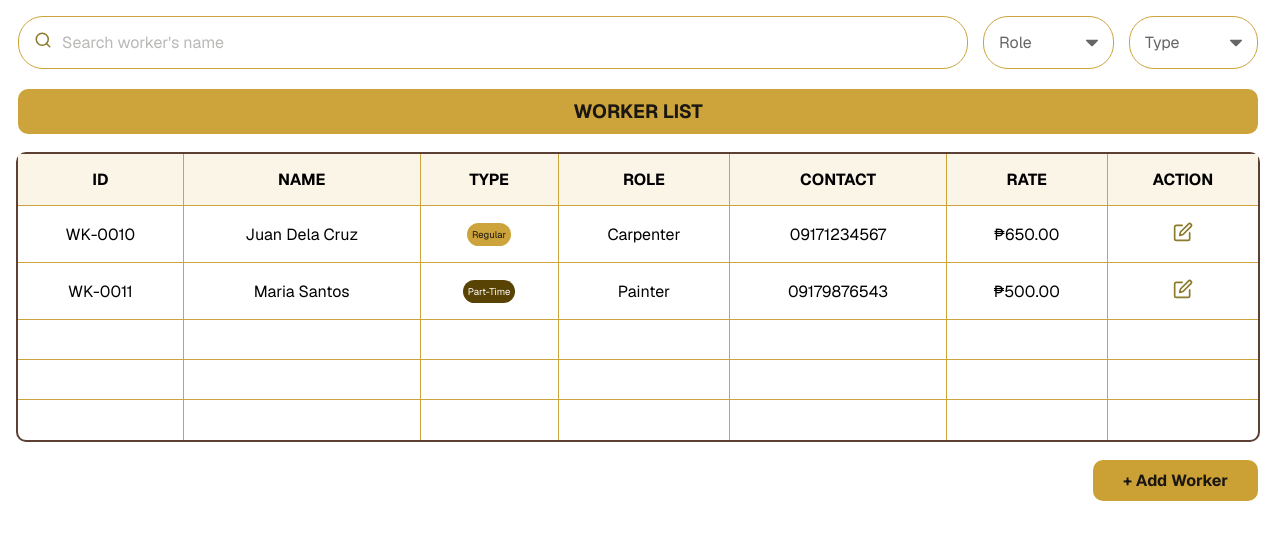
Test: WorkerList › shows the empty state when a filter matches nobody
Expected: the text "Juan Dela Cruz" is shown, [183,206,420,262]
Type "nobody" into the field with placeholder "Search worker's name" at (502,42), box [52,22,952,63]
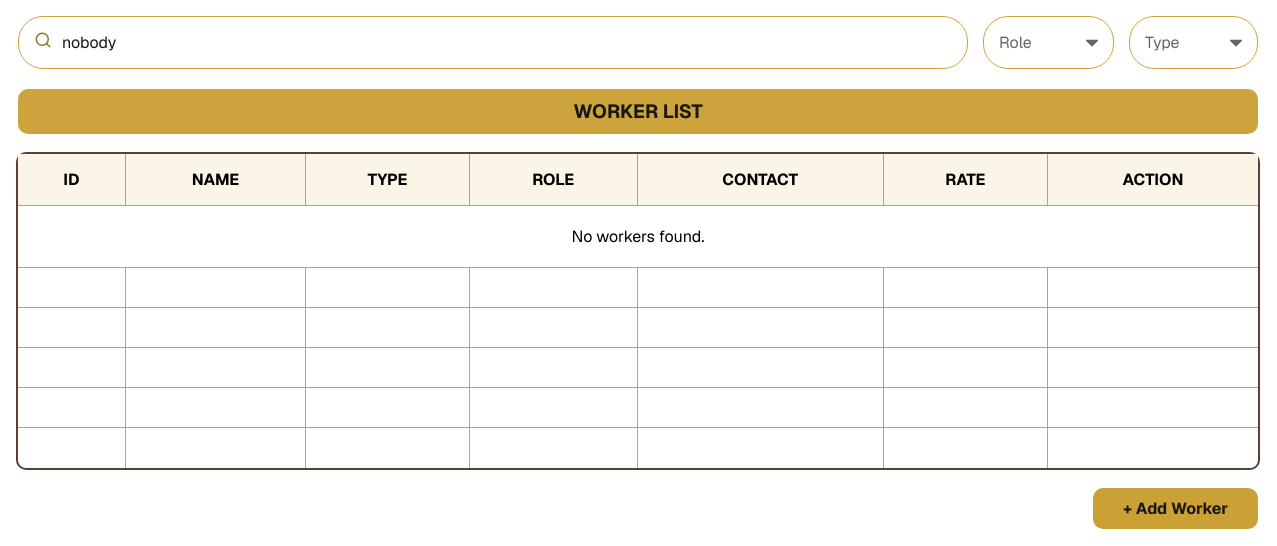
Result: the text "No workers found." is shown at [18,206,1258,268]
